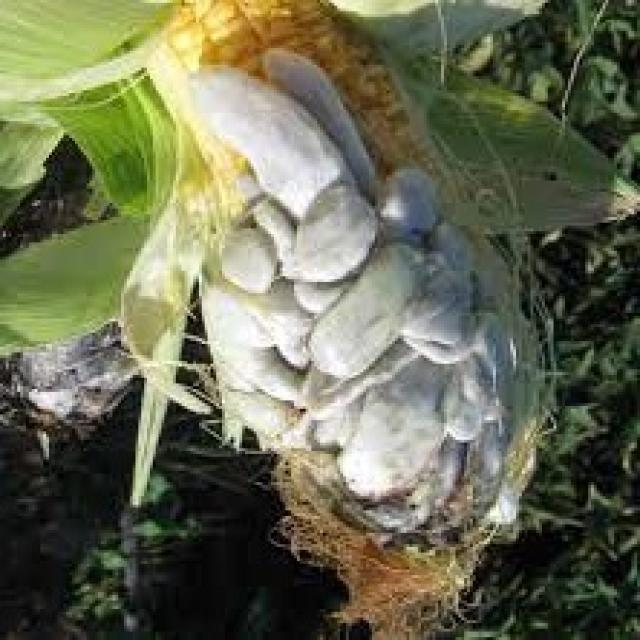Leaf_Scald: (48, 3, 605, 613)
